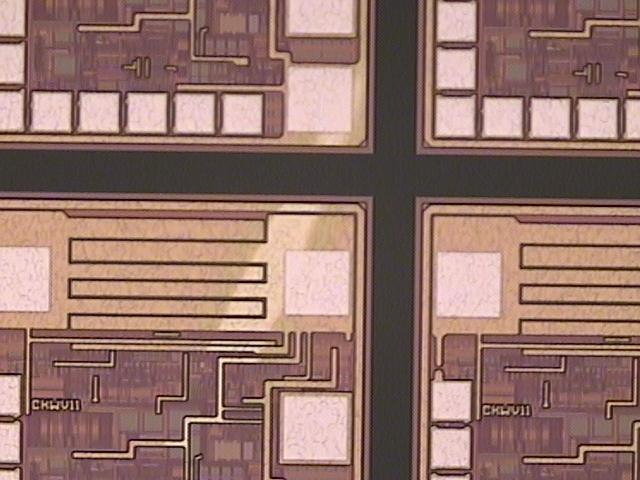COATING BAD: (181, 43, 397, 428)
